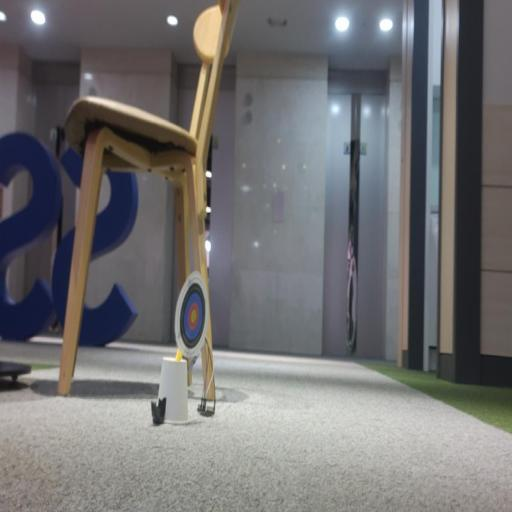target: (175, 272, 209, 358)
